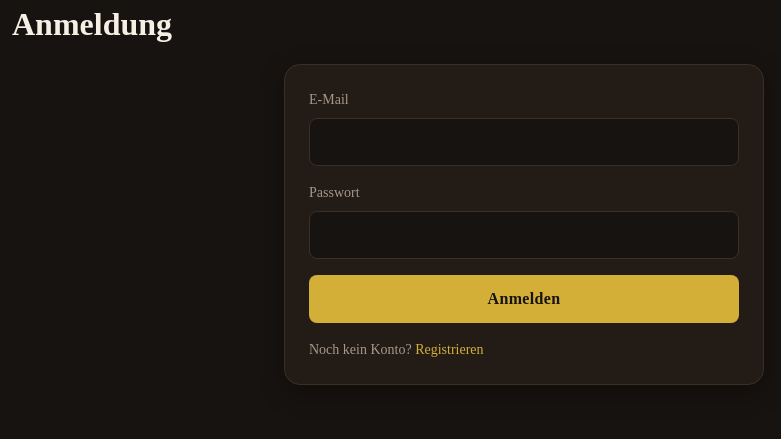
Test case: LoginPage › shows an understandable error and stores no token on a 401 login
In the field labelled "E-Mail": (524, 142) [309,118,739,166], type "falsch@example.com"
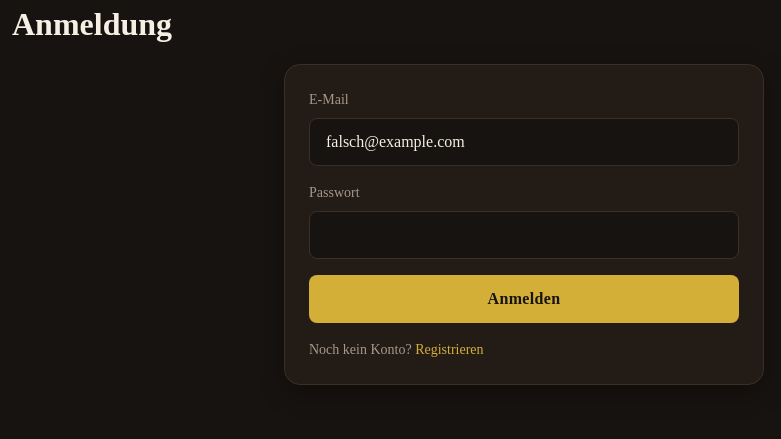
In the password field labelled "Passwort": (524, 235) [309,211,739,259], type "falsch"
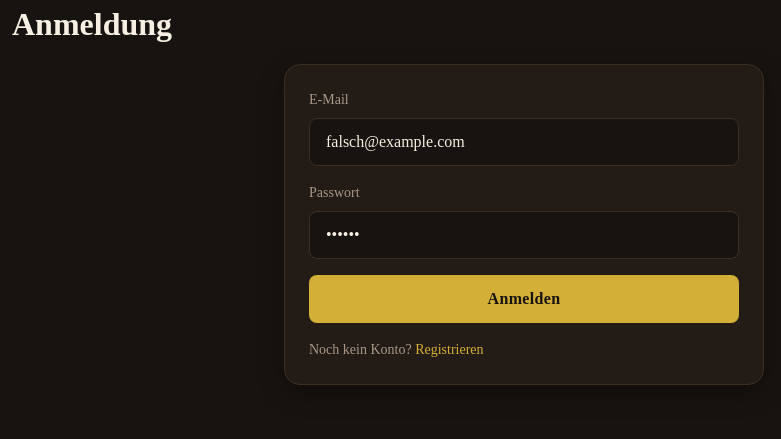
Click the button "Anmelden": (524, 299) [309,275,739,323]
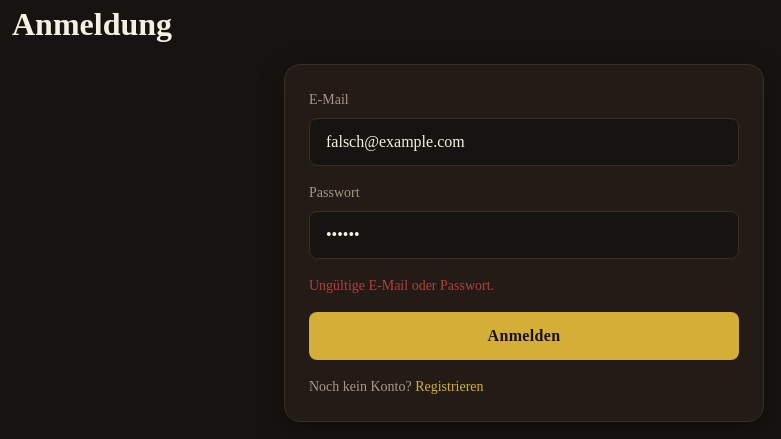
Expected: the message reads "Ungültige E-Mail oder Passwort.", [309,278,494,293]
